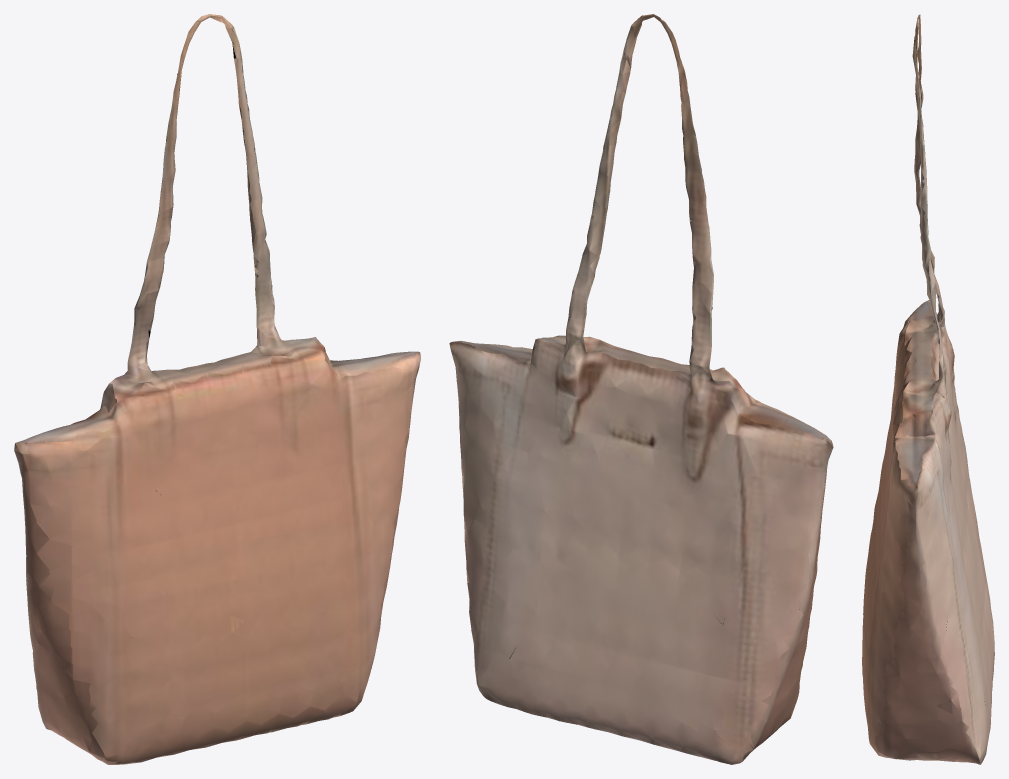
The picture shows the model from 3 angles, left to right: view 1: azimuth 30°, elevation 25°; view 2: azimuth 150°, elevation 25°; view 3: azimuth 270°, elevation 25°; orthographic projection. The views are drawn at different scales.
Parts seen in each view (by area): view 1: world; view 2: world; view 3: world.
Part boxes in pixels (left/top/right/bottom): world: left=14, top=14, right=420, bottom=764; world: left=449, top=14, right=833, bottom=764; world: left=862, top=14, right=994, bottom=764.
Size of the model in its own units: 0.5494 by 0.9416 by 0.1648.
1 material, 1 textured.
